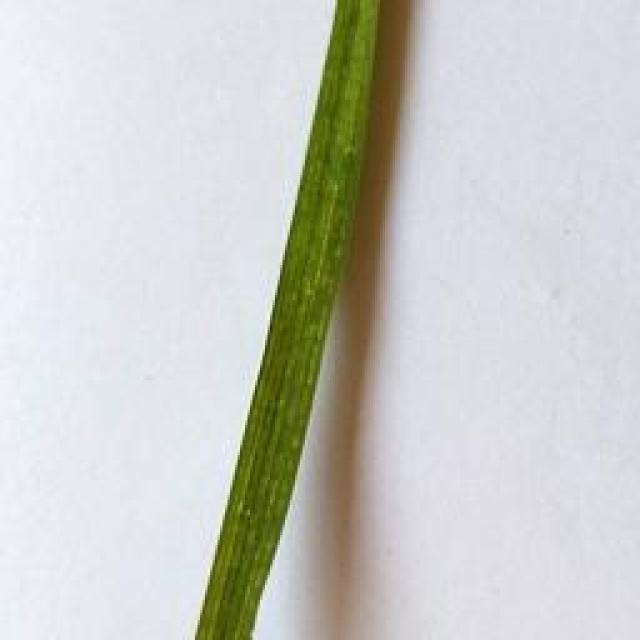Healthy-Plant: (197, 0, 382, 640)
